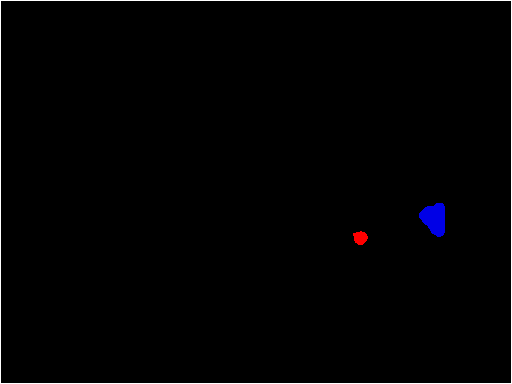chipped: (422, 209, 444, 231)
detached: (353, 228, 368, 243)
